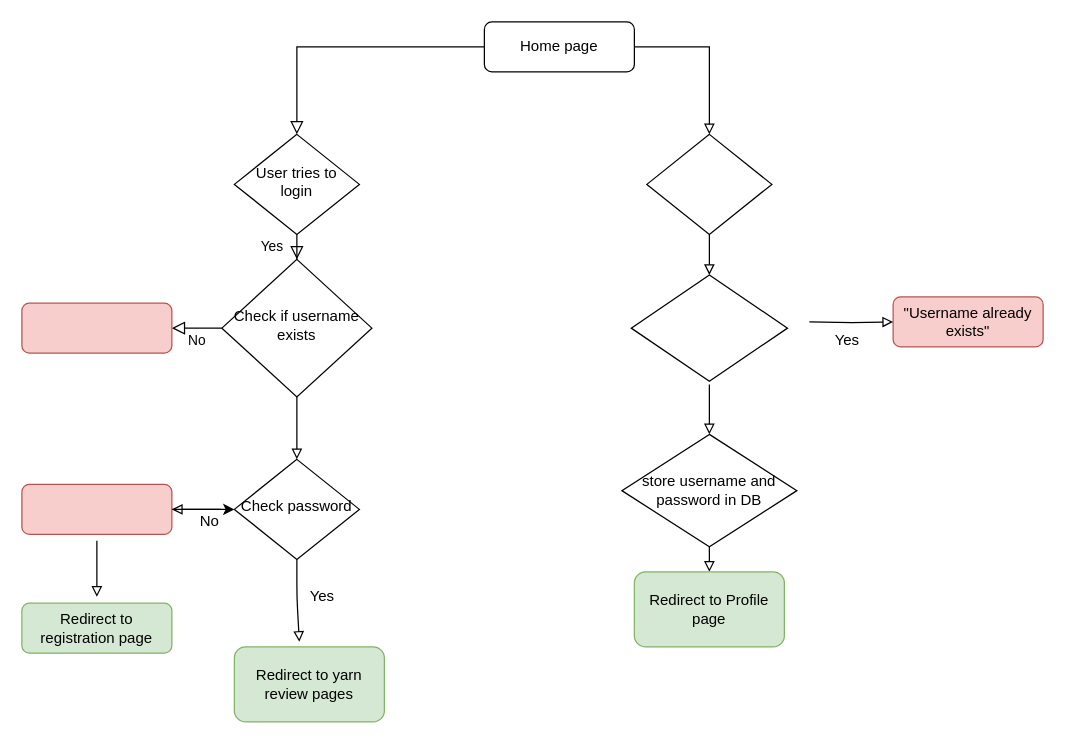
Image size: 1065x744. Some labels were removed from this diagram. The centre of each missing label's shape, as x and y in pixels:
"Incorrect username or password": [96,508]
"Username does not exist" message: [96,327]
check if username already exists: [709,327]
User wants to register: [709,183]
